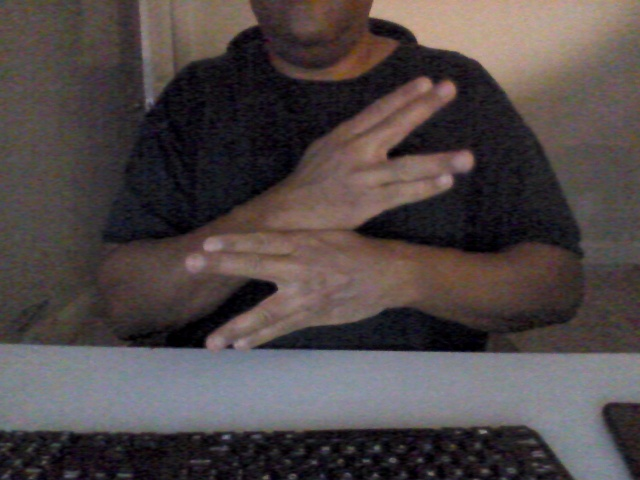world: (175, 68, 476, 353)
